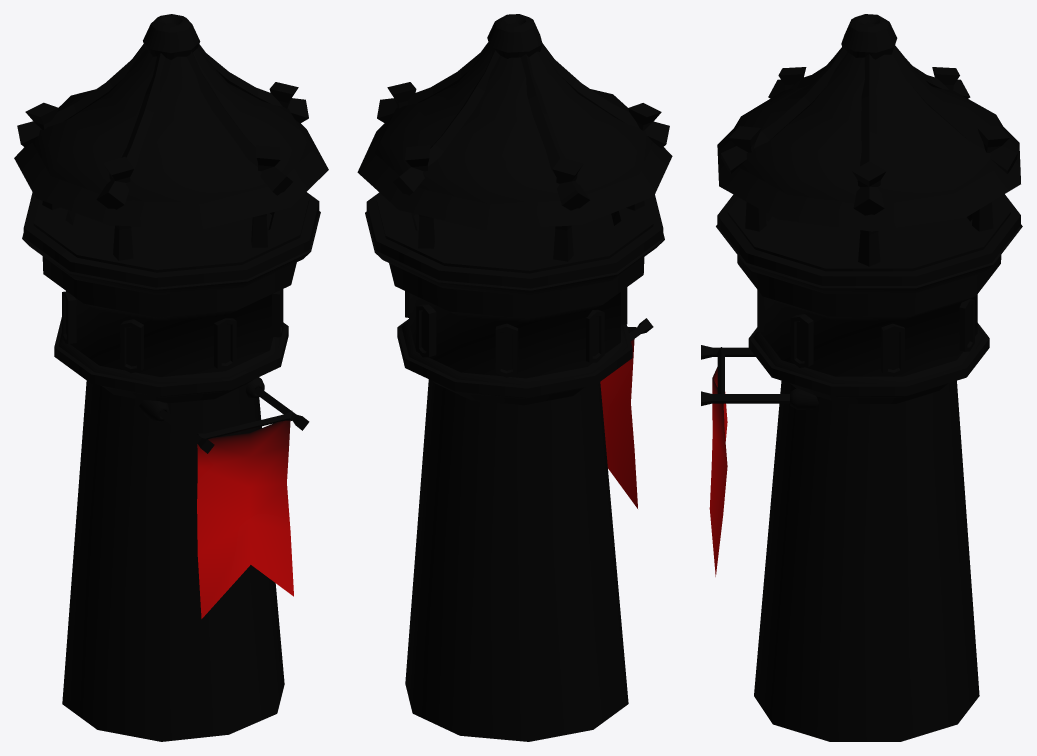
File: SM_Tower.fbx
3 renders of one model, left to right at view 1: azimuth 30°, elevation 25°; view 2: azimuth 150°, elevation 25°; view 3: azimuth 270°, elevation 25°, orthographic.
Parts seen in each view (by area): view 1: SM_TowerW; view 2: SM_TowerW; view 3: SM_TowerW.
Part boxes in pixels (bbox=[...]): SM_TowerW: bbox=[14, 14, 328, 741]; SM_TowerW: bbox=[357, 14, 672, 741]; SM_TowerW: bbox=[701, 14, 1022, 741].
Size of what is drawn, in the model's own units: 281 by 660 by 285.
